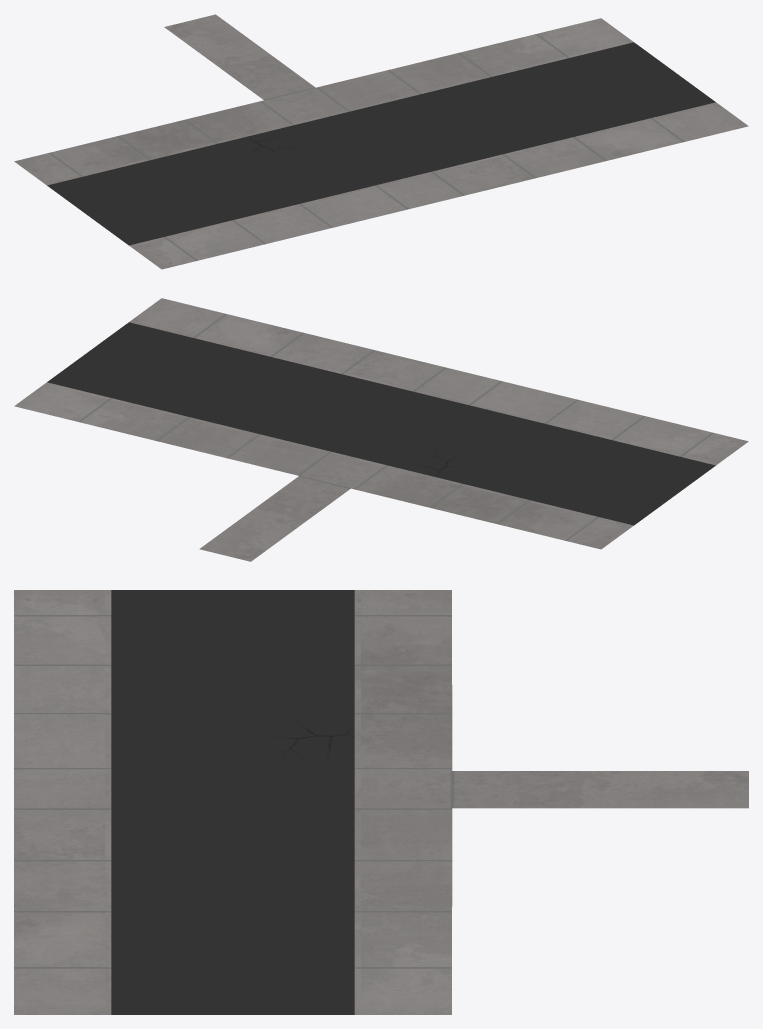
The model's file is Road_L_Single_WalkWay_Flat.fbx.
3 views of the same model, one above another, from view 1: azimuth 30°, elevation 25°; view 2: azimuth 150°, elevation 25°; view 3: azimuth 270°, elevation 25° (orthographic). The views are drawn at different scales.
Parts seen in each view (by area): view 1: Road_L_Single_WalkWay001; view 2: Road_L_Single_WalkWay001; view 3: Road_L_Single_WalkWay001.
Part boxes in pixels (bbox=[...]): Road_L_Single_WalkWay001: bbox=[14, 14, 748, 269]; Road_L_Single_WalkWay001: bbox=[14, 298, 748, 561]; Road_L_Single_WalkWay001: bbox=[14, 590, 748, 1014].
Bounding box in the file's own units: 1300 × 951 × 0.1106.
